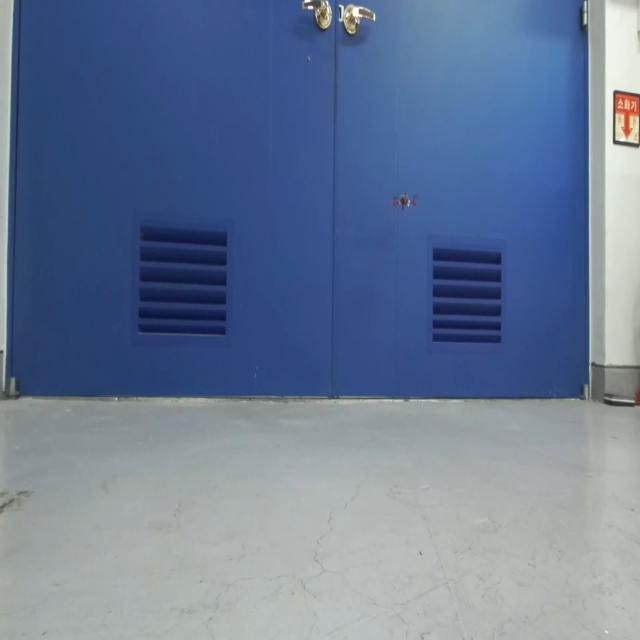crazyflie: (390, 186, 418, 215)
